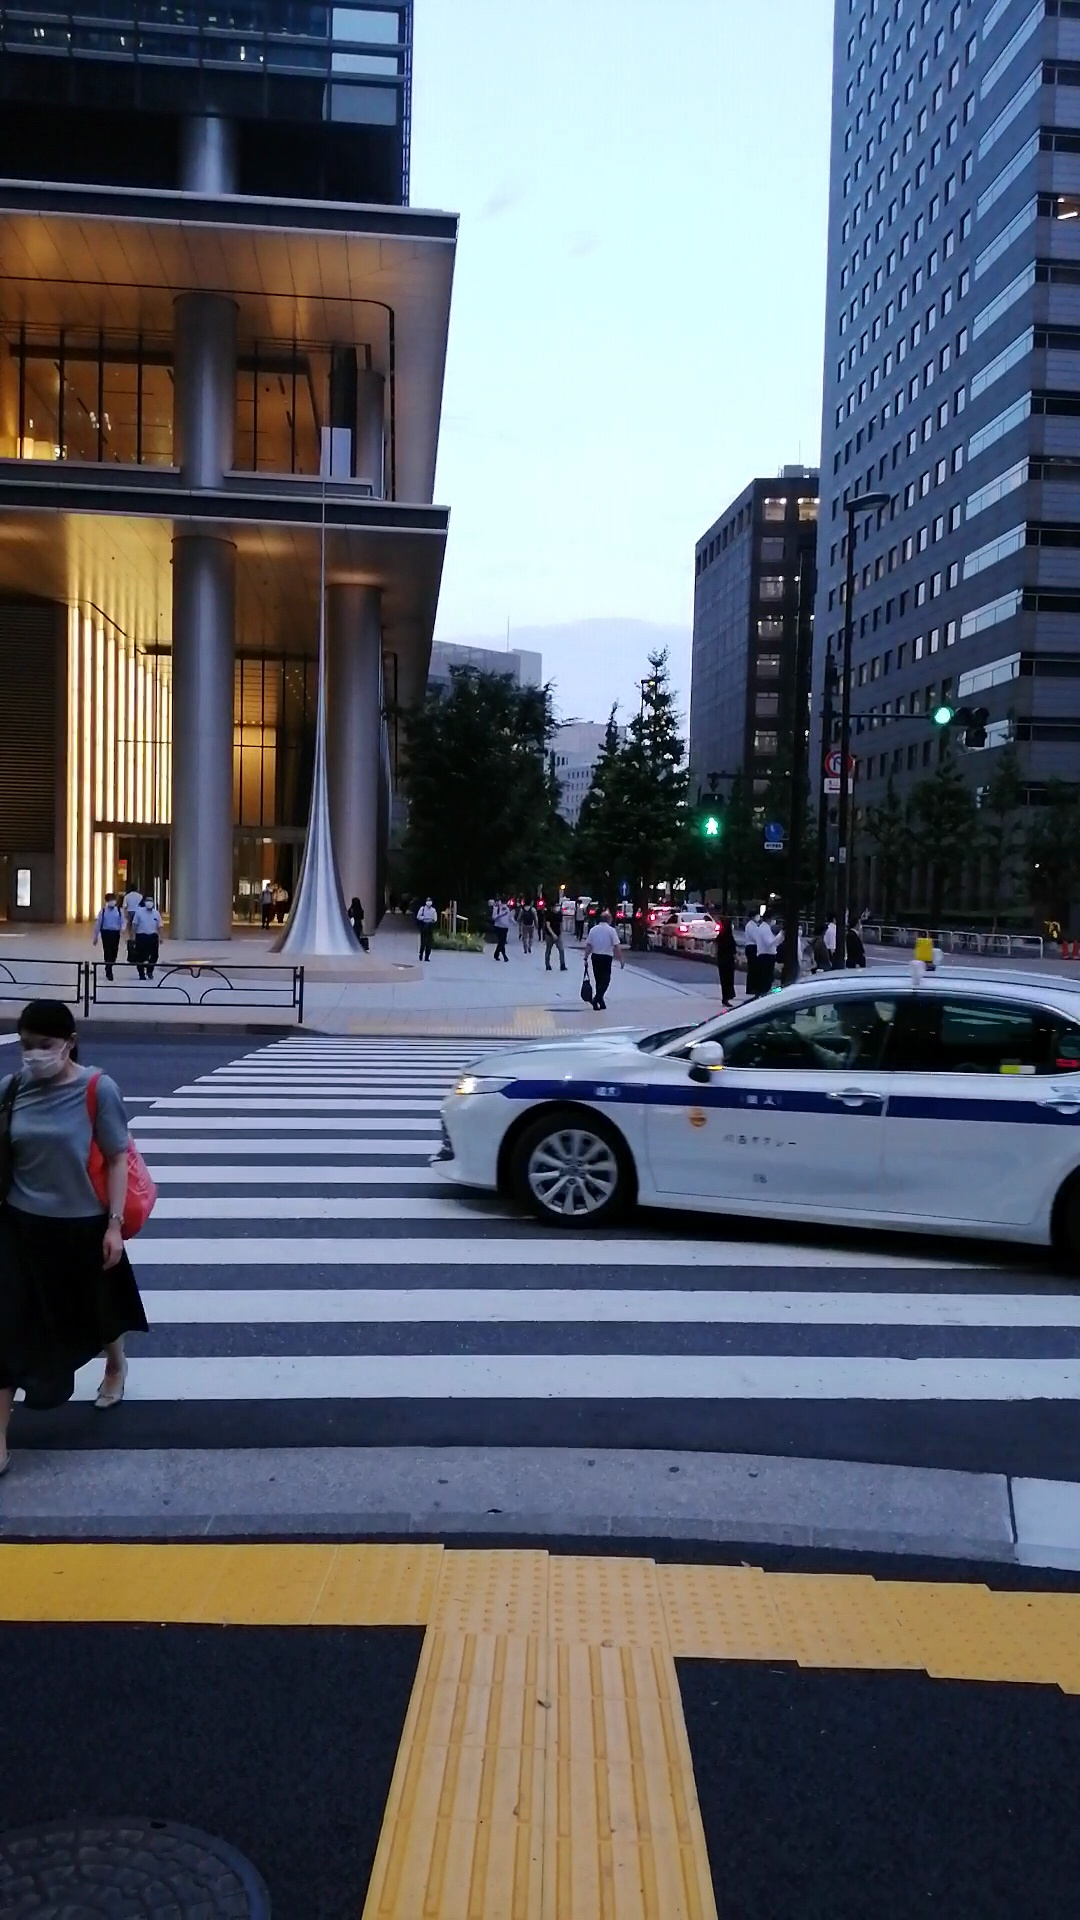green: (698, 793, 725, 844)
